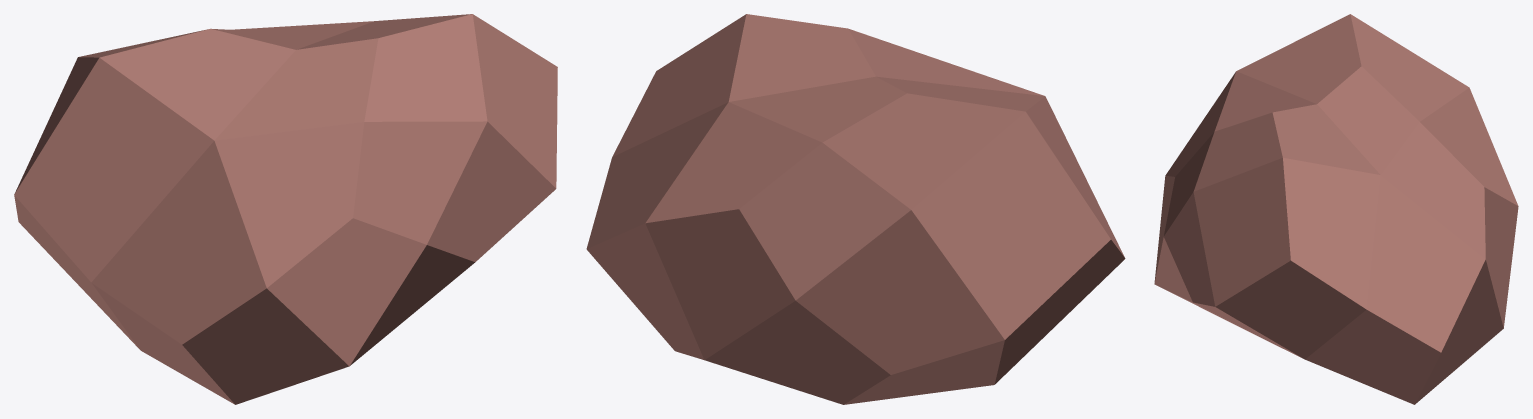
The model's file is Rock_Single.fbx.
3 renders of one model, left to right at view 1: azimuth 30°, elevation 25°; view 2: azimuth 150°, elevation 25°; view 3: azimuth 270°, elevation 25°, orthographic. The views are drawn at different scales.
Parts seen in each view (by area): view 1: Rocks.001; view 2: Rocks.001; view 3: Rocks.001.
Part boxes in pixels (x1,y1,x2,y2): Rocks.001: [14, 14, 557, 404]; Rocks.001: [586, 14, 1125, 404]; Rocks.001: [1154, 14, 1518, 404].
Bounding box in the file's own units: 758 × 457 × 555.
